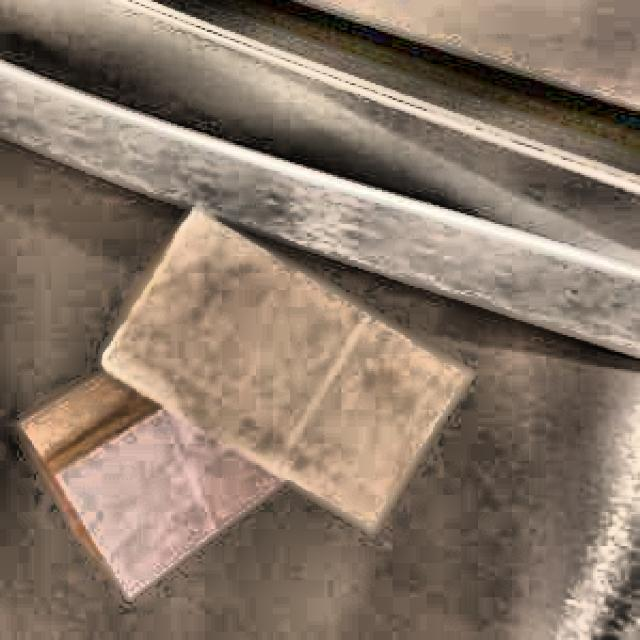Paper-bag: (90, 196, 476, 528), (14, 304, 362, 594)
